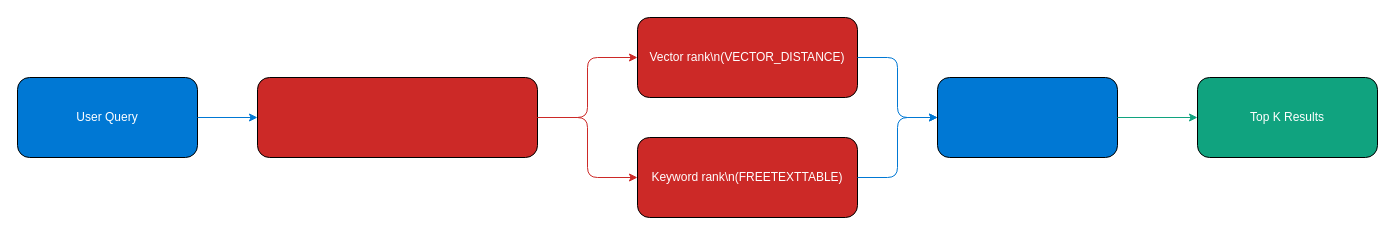
This 1395x235 diagram has some shape labels left out. Here are the shapes that lost their labels. From the top down, the centre of each, then its label:
At (x=397, y=117): "find_similar_reviews_hybrid".
At (x=1027, y=117): "RRF Fusion".
